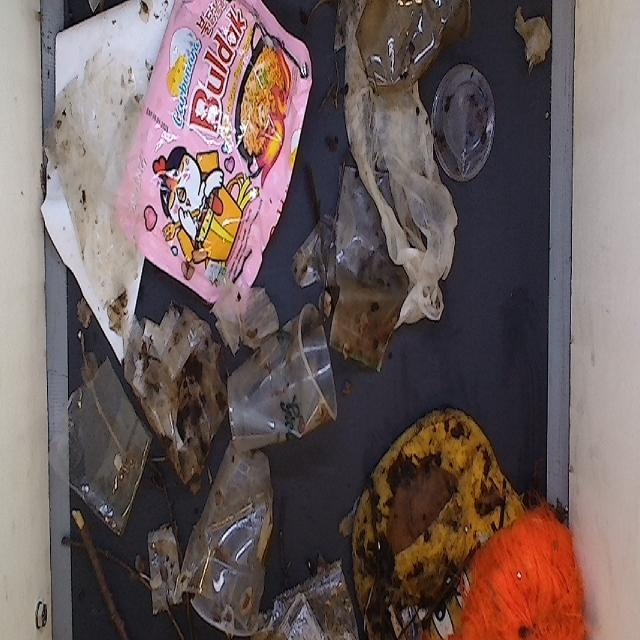food_wrapping: (118, 0, 320, 292)
plastic_cups: (45, 339, 152, 535), (224, 316, 353, 470), (192, 418, 278, 640), (358, 0, 482, 79), (431, 64, 498, 180)
plastic_films: (345, 0, 452, 351), (41, 0, 153, 321), (292, 154, 413, 372), (116, 292, 228, 481), (276, 570, 358, 640), (146, 521, 186, 615)
